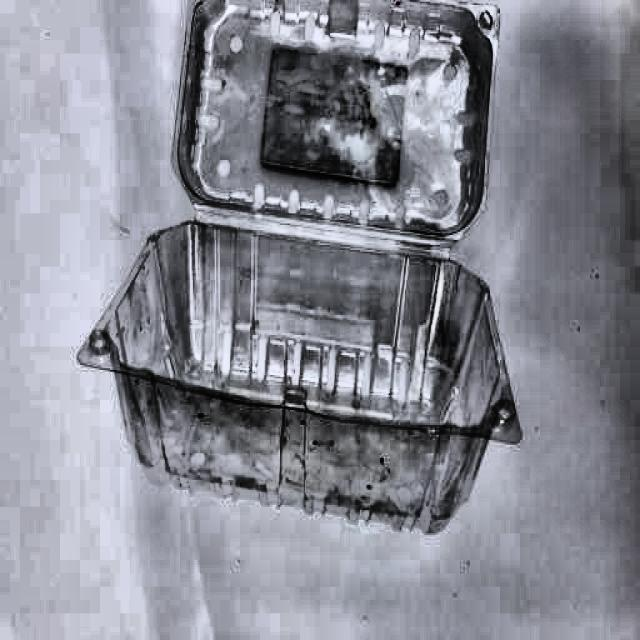plastic: (111, 5, 523, 524)
